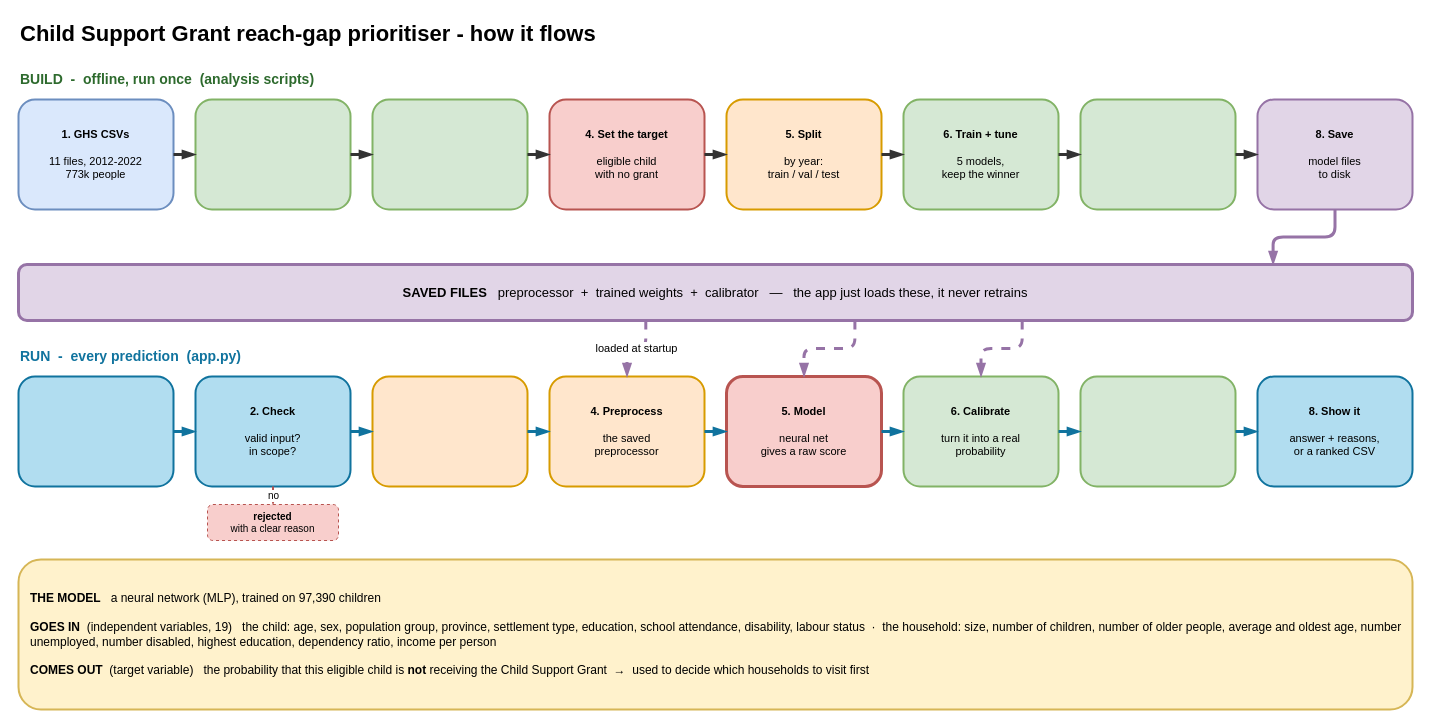
Image size: 1431x727. Some labels were removed from this diagram. Each missing label, with the box of its shape:
1. Frontend user enters the child + household members: (17, 375, 174, 487)
2. Harmonise one vocabulary across all years: (194, 98, 351, 210)
3. Build features turn the roster into 19 numbers: (371, 375, 528, 487)
3. Build panel add household features: (371, 98, 528, 210)
7. Calibrate make the scores honest: (1079, 98, 1236, 210)
7. Rank risk band + priority position: (1079, 375, 1236, 487)
